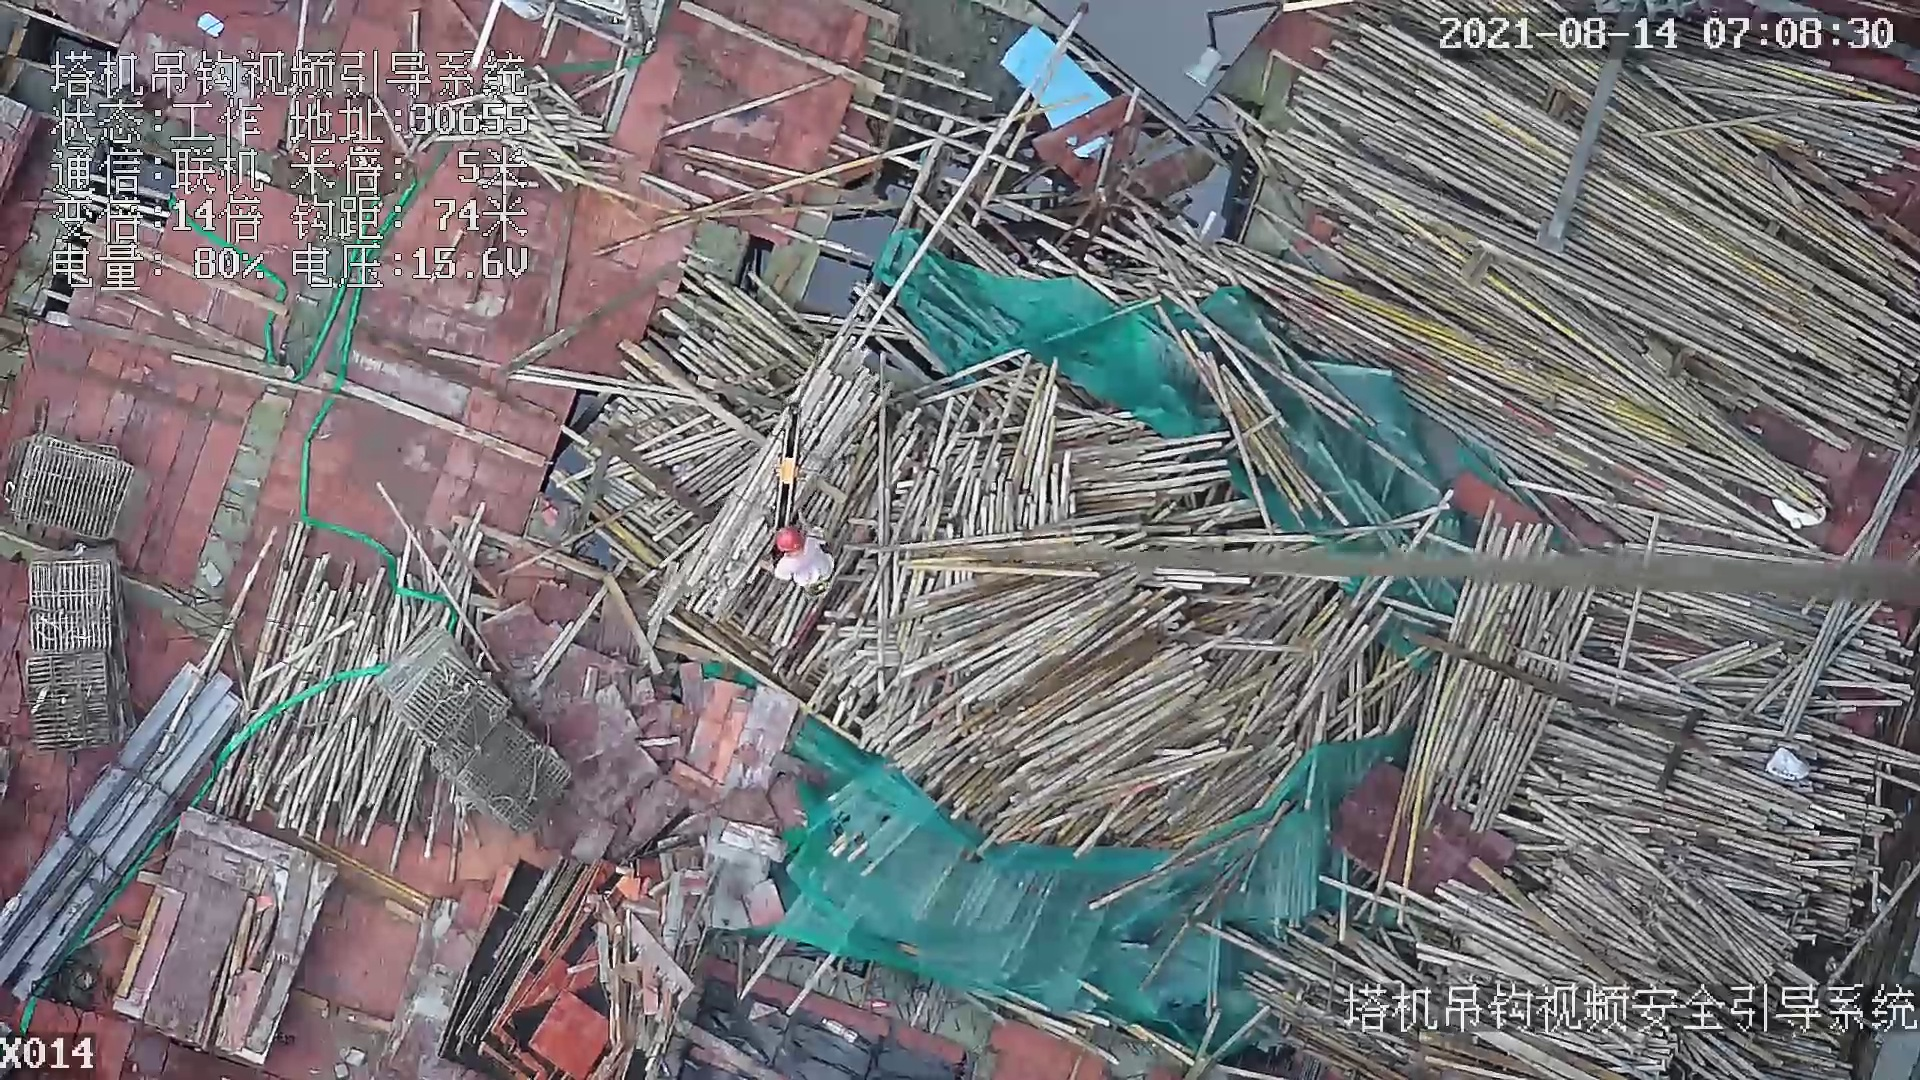helmet: (774, 526, 806, 554)
hook: (760, 400, 809, 549)
person: (759, 519, 840, 595)
